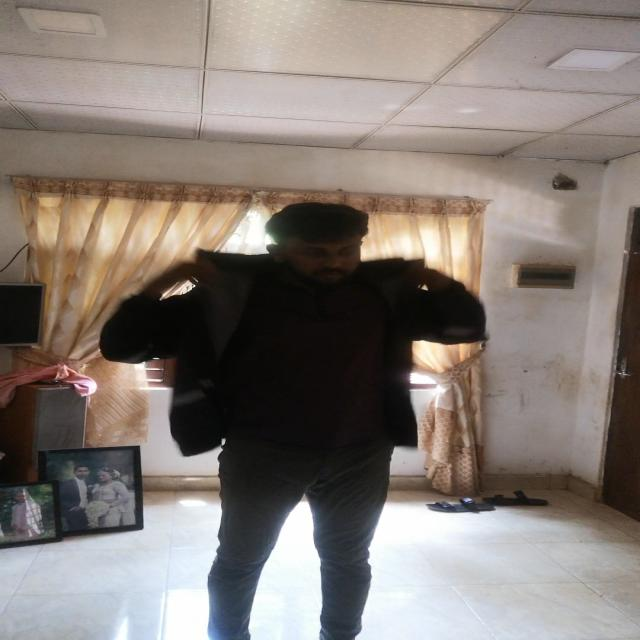Jacket_Wearer: (101, 251, 489, 467)
Person: (104, 191, 484, 638)
